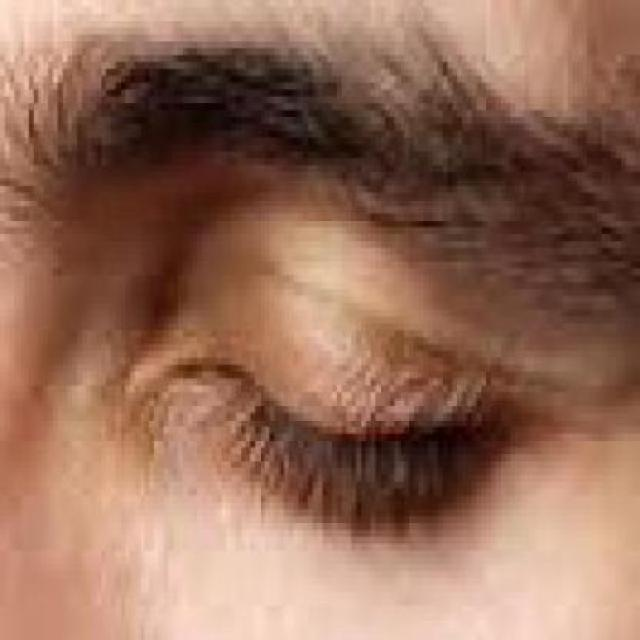drowsy: (162, 309, 529, 574)
